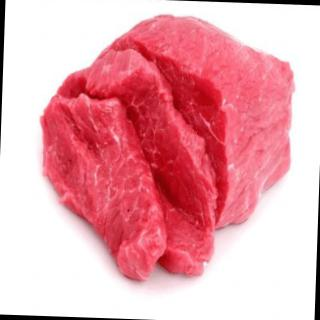Daging Sapi: (78, 15, 294, 232), (54, 48, 223, 280), (37, 94, 172, 281)
